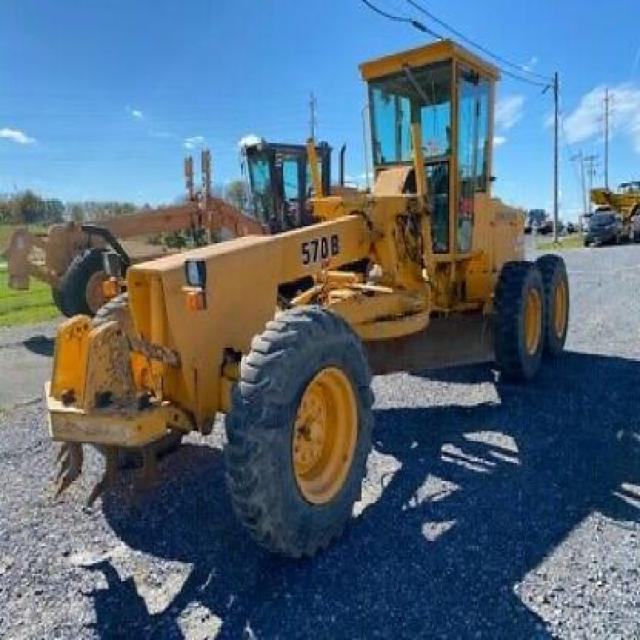buldozerpayloadergrader: (41, 34, 572, 566)
